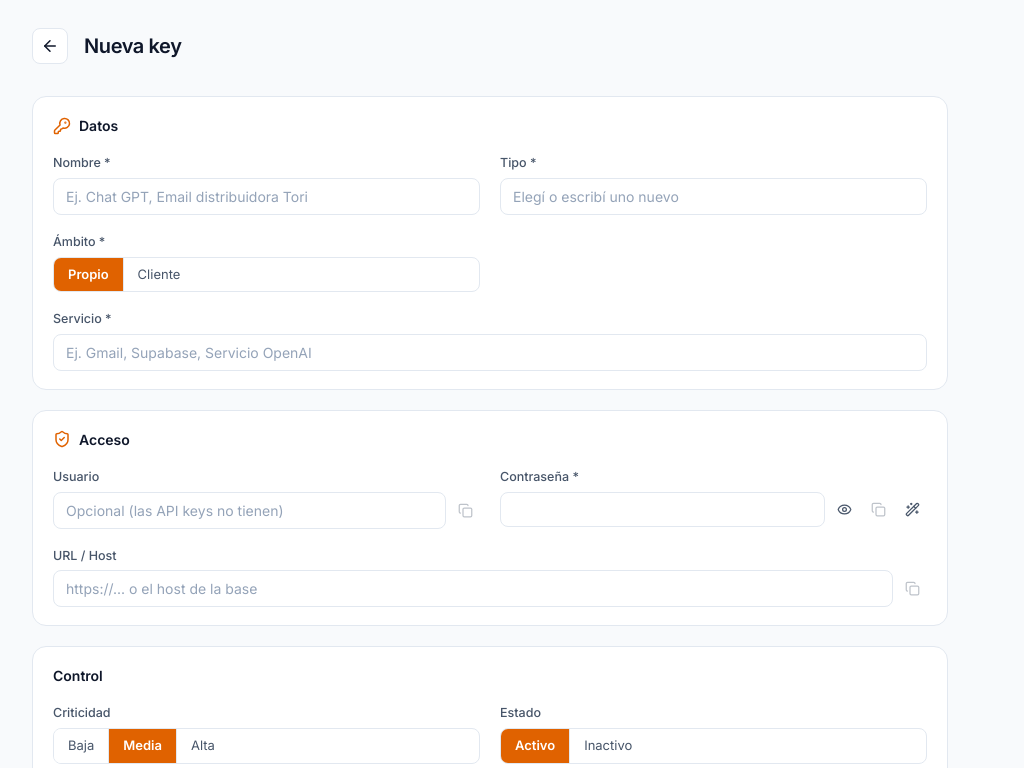
Test case: KeyDetalle — alta (admin) › los campos de base de datos aparecen solo para ese tipo
Expected: the field labelled "Puerto" is not shown
Type "Credencial Base de datos" into the field labelled "Tipo".
click(714, 196); type("Credencial Base de datos")  # box [500,178,927,215]
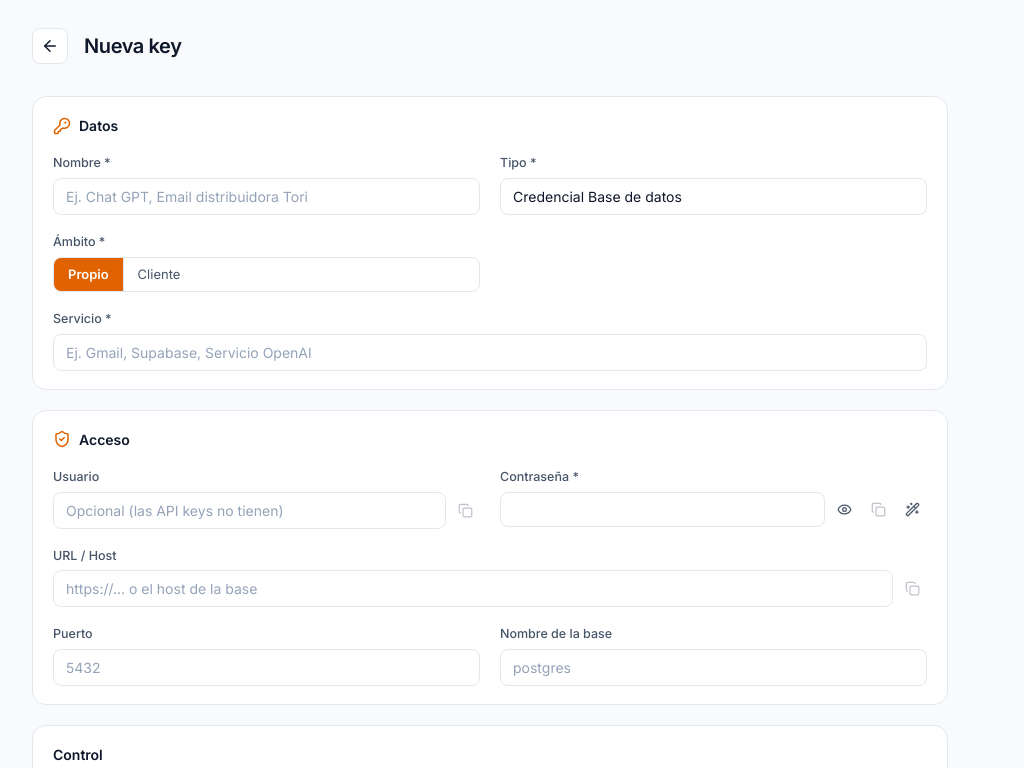
Now the field labelled "Puerto" is shown, box [53,649,480,686]
Now the field labelled "Nombre de la base" is shown, box [500,649,927,686]
